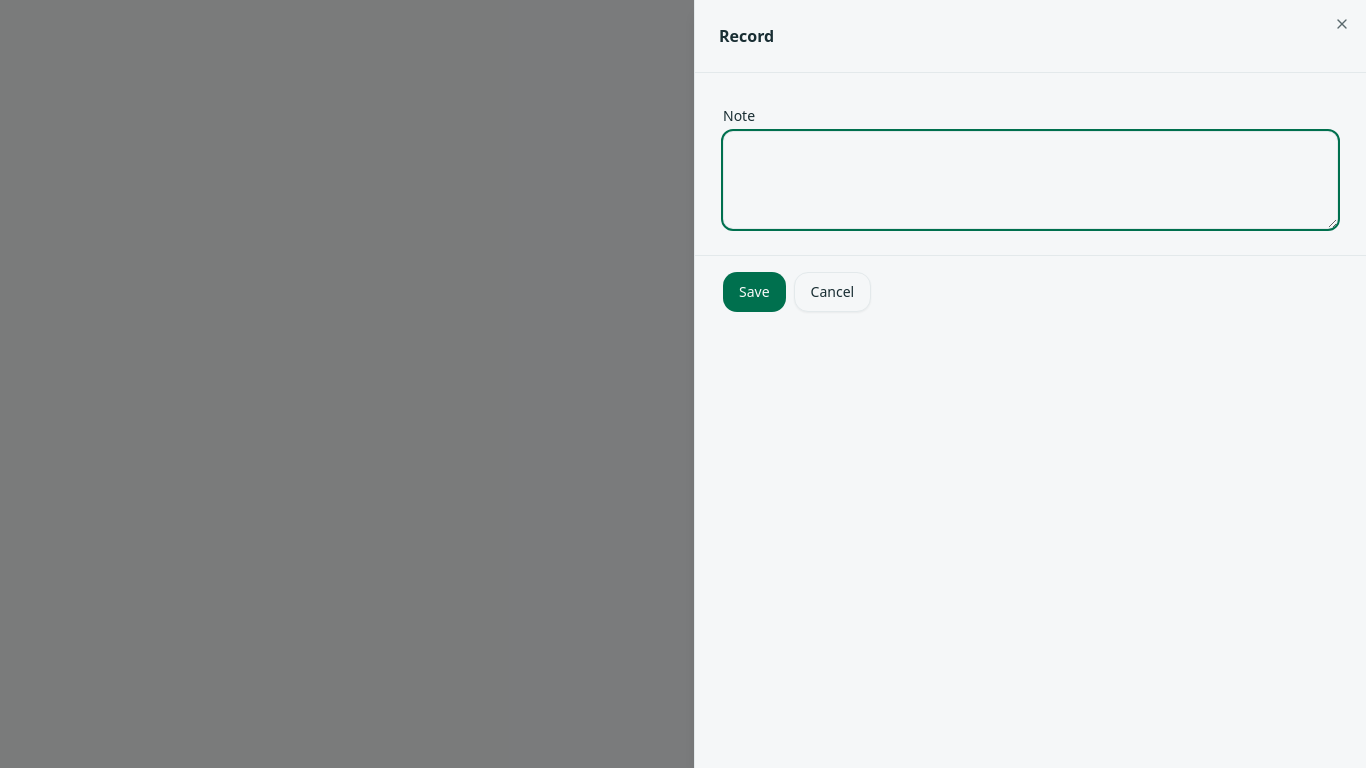
Test: recoverable record validation › retains the form after an offline save and clears field errors before the next attempt
This screenshot has width=1366, height=768.
Type "Keep this draft" into the text box labelled "Note".
click(1030, 180); type("Keep this draft")  # box [723,131,1338,229]
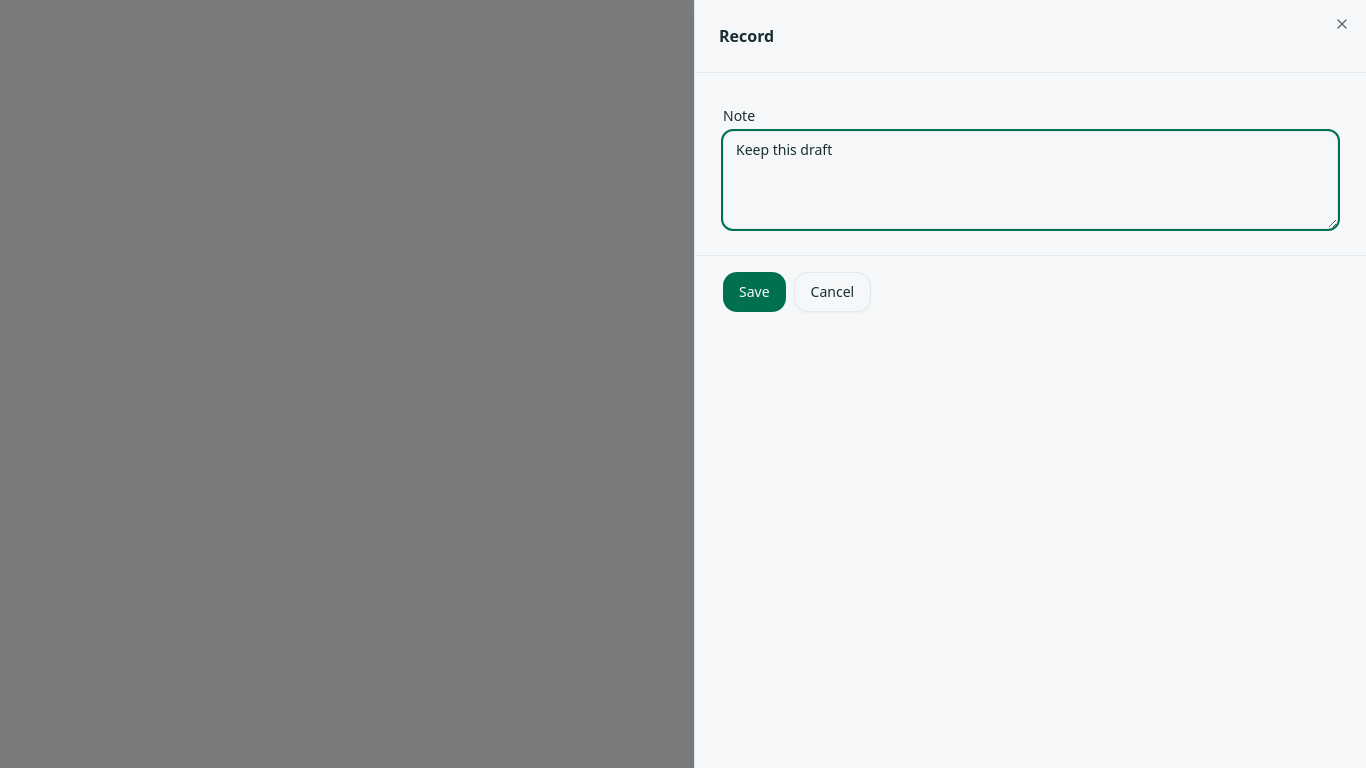
Click the button "Save".
click(754, 292)  # box [723,272,786,312]
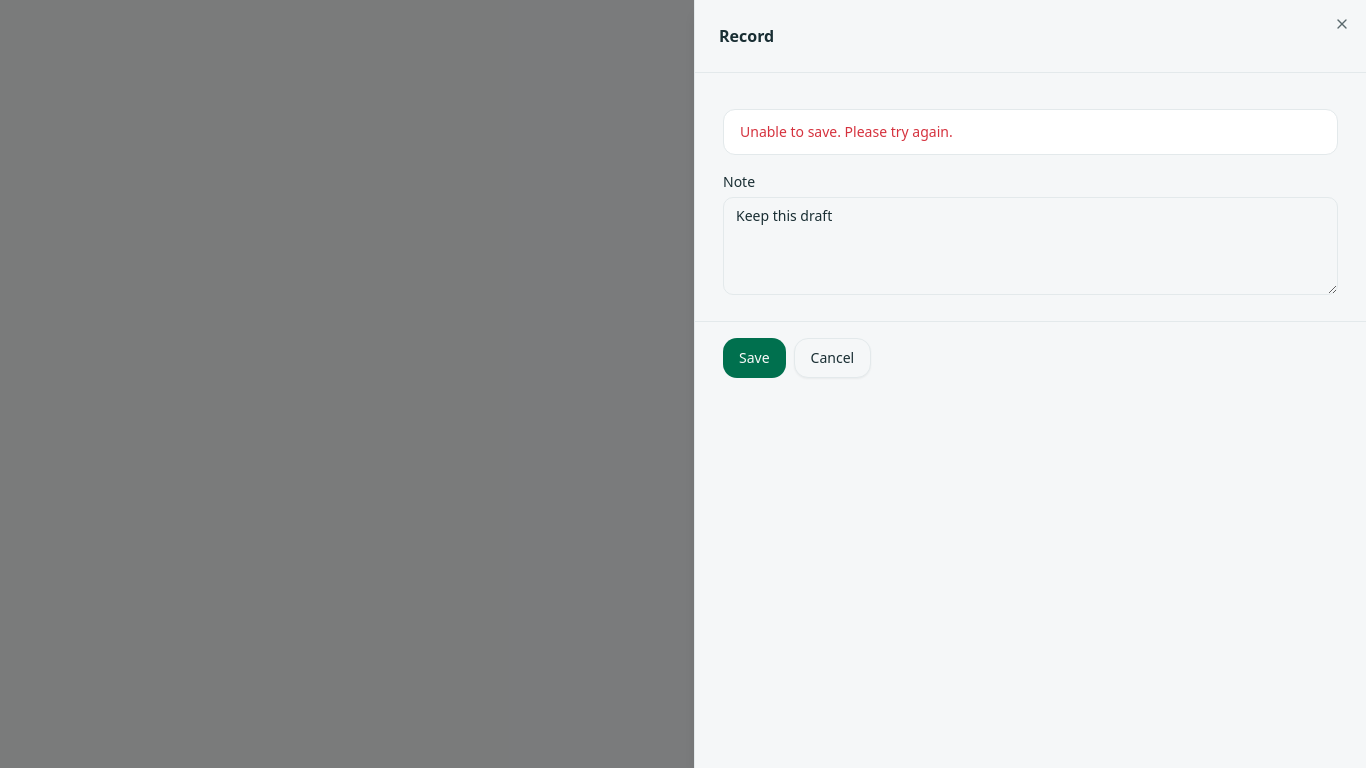
Check: the text "Unable to save. Please try again." is shown, box [740,122,953,141]
Click the button "Save".
click(754, 358)  # box [723,338,786,378]
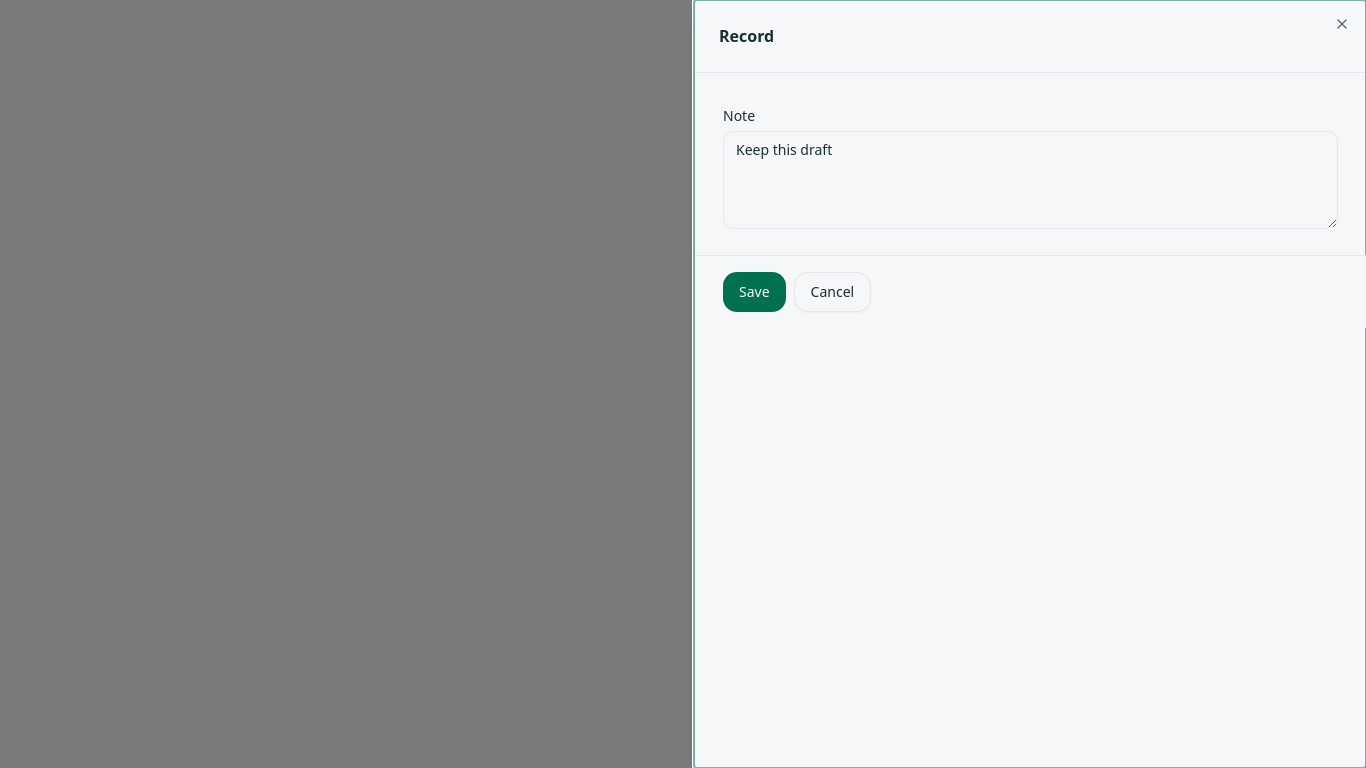
Check: the text "Unable to save. Please try again." is gone
